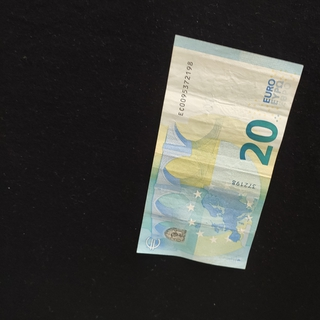20EUROBack: (136, 34, 303, 270)
